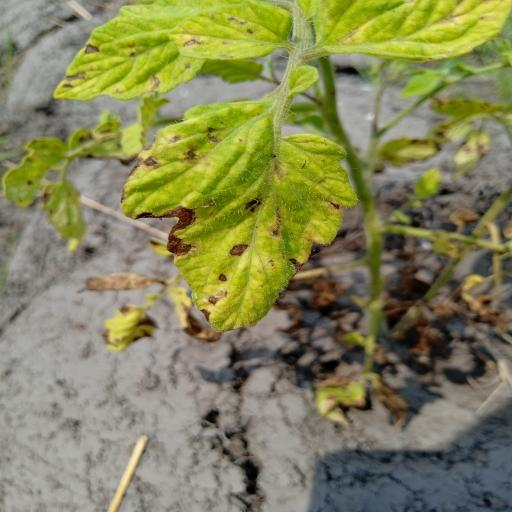Tomato_Brown_Spots: (117, 94, 362, 344), (52, 0, 250, 101), (306, 0, 512, 63)
